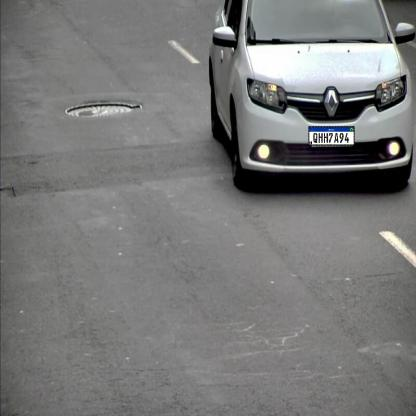PlacaM: (308, 126, 355, 146)
